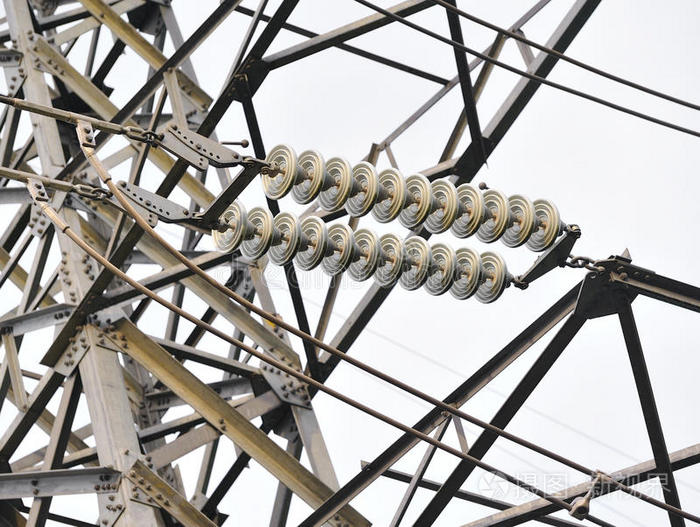insulator: (256, 145, 557, 254), (209, 203, 505, 306)
